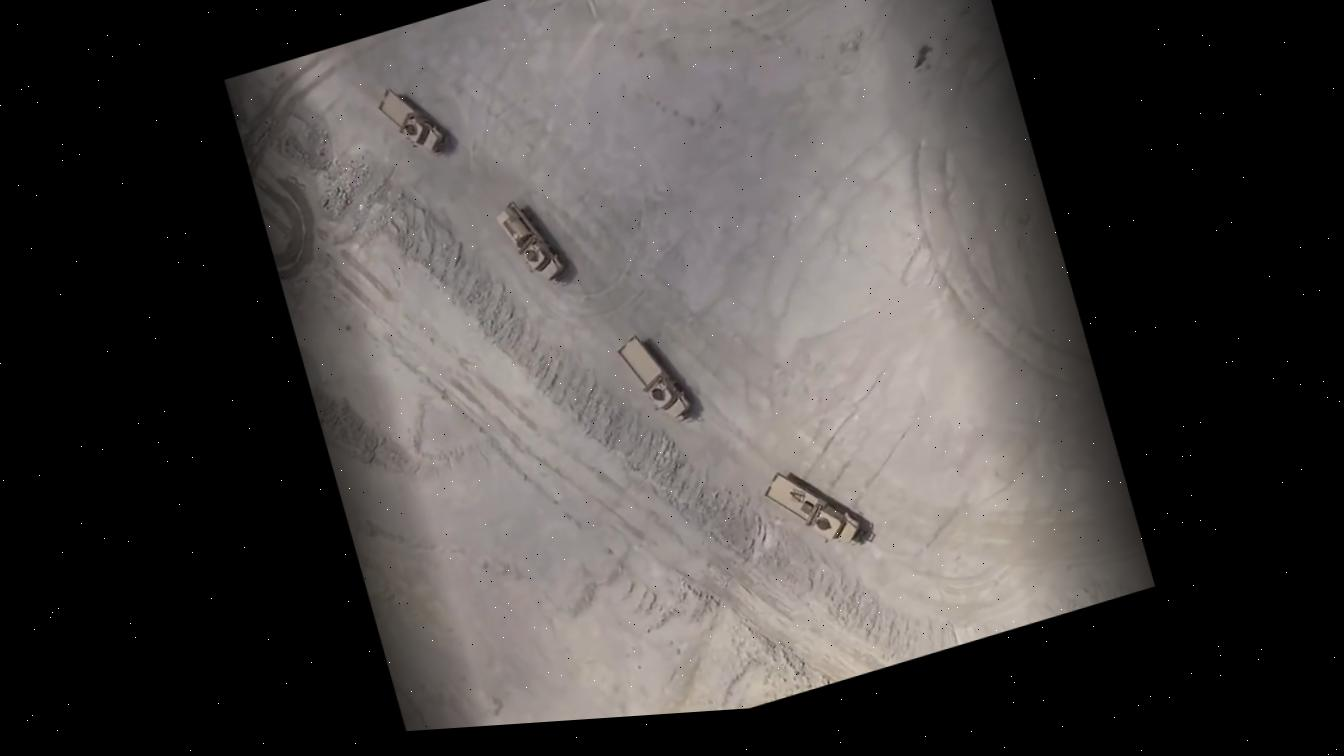truck: (755, 446, 880, 577), (603, 320, 704, 443), (363, 63, 465, 180), (489, 186, 579, 298)
